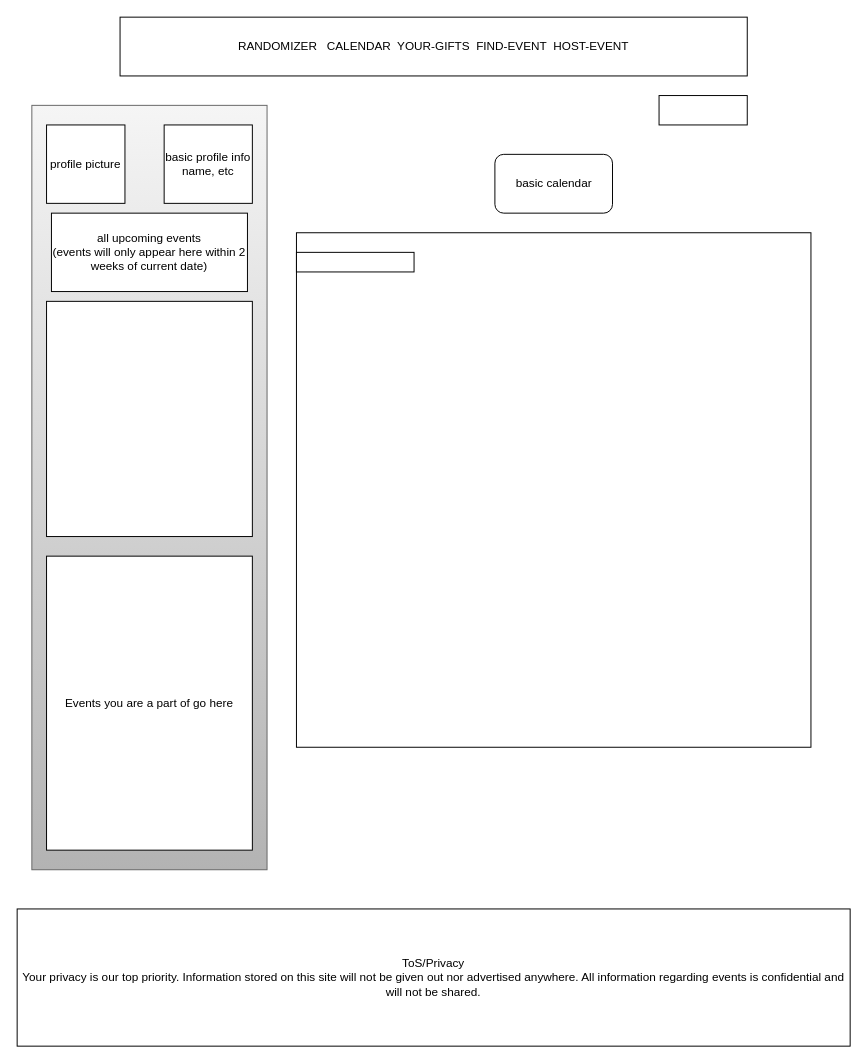
Image size: 867x1063. Some labels were removed from this diagram. Here are the shapes that lost their labels. From the top down, the centre of each, then its label:
(702,110): logout
(354,261): event!
(149,418): Your hosted events go here
